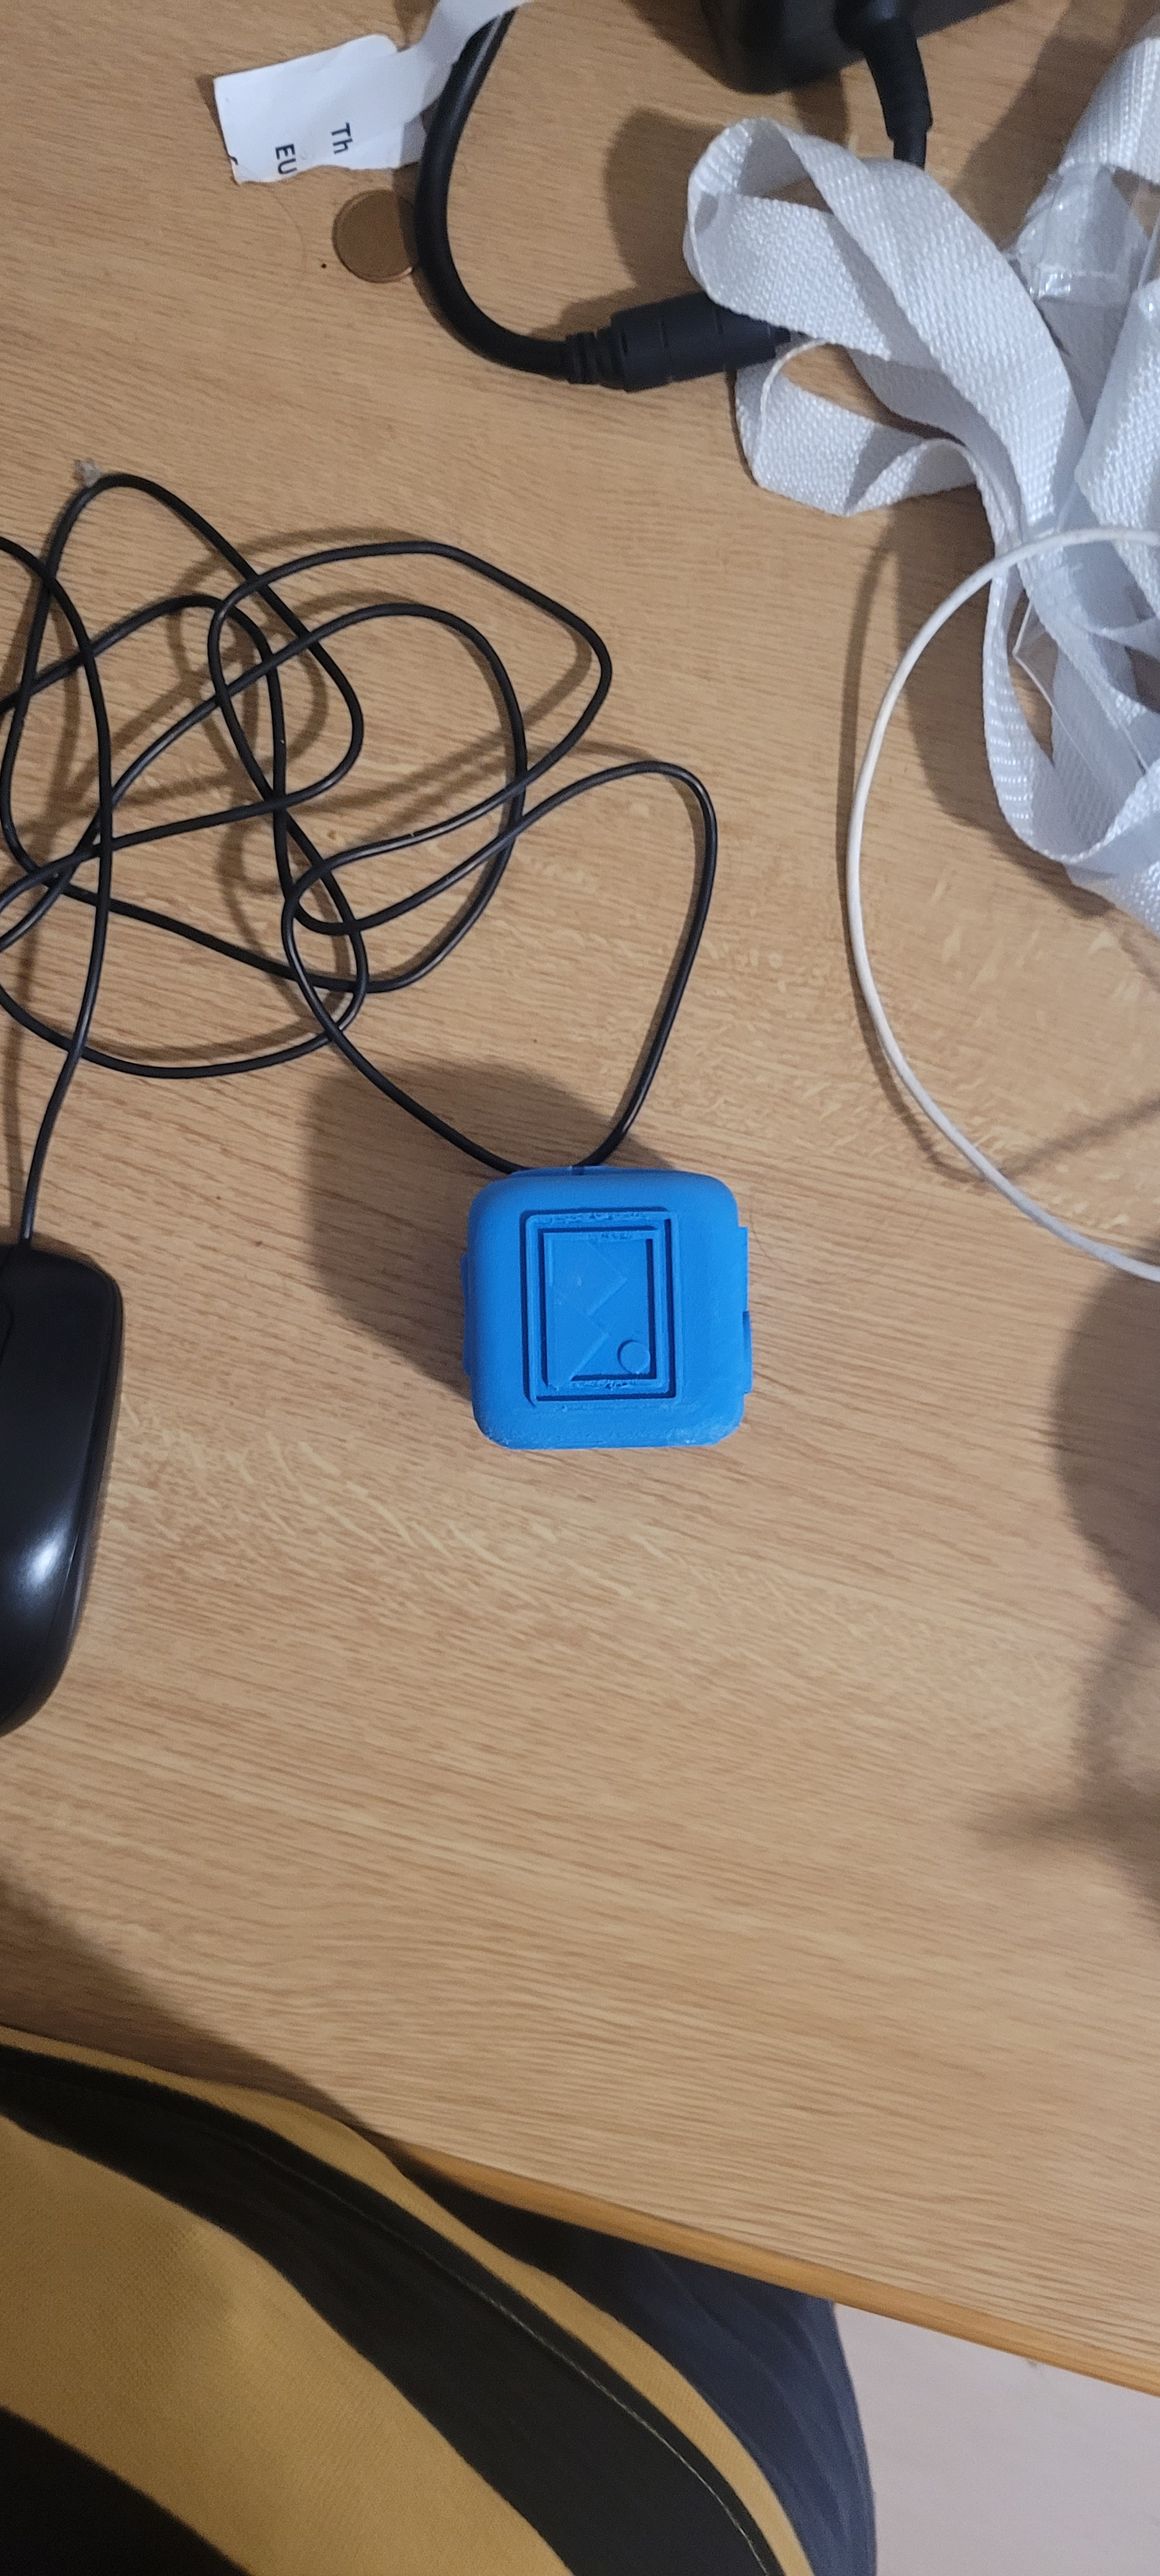Story: (483, 1199, 725, 1421)
